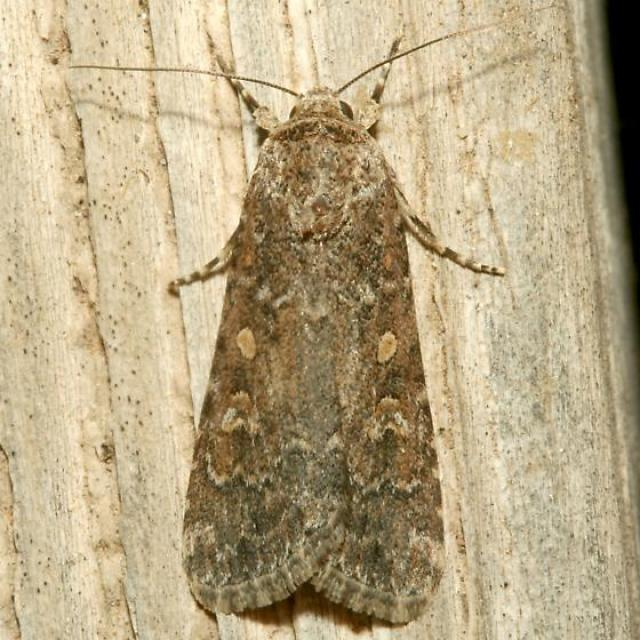BeetArmyWorm-Adult-: (154, 12, 486, 629)
